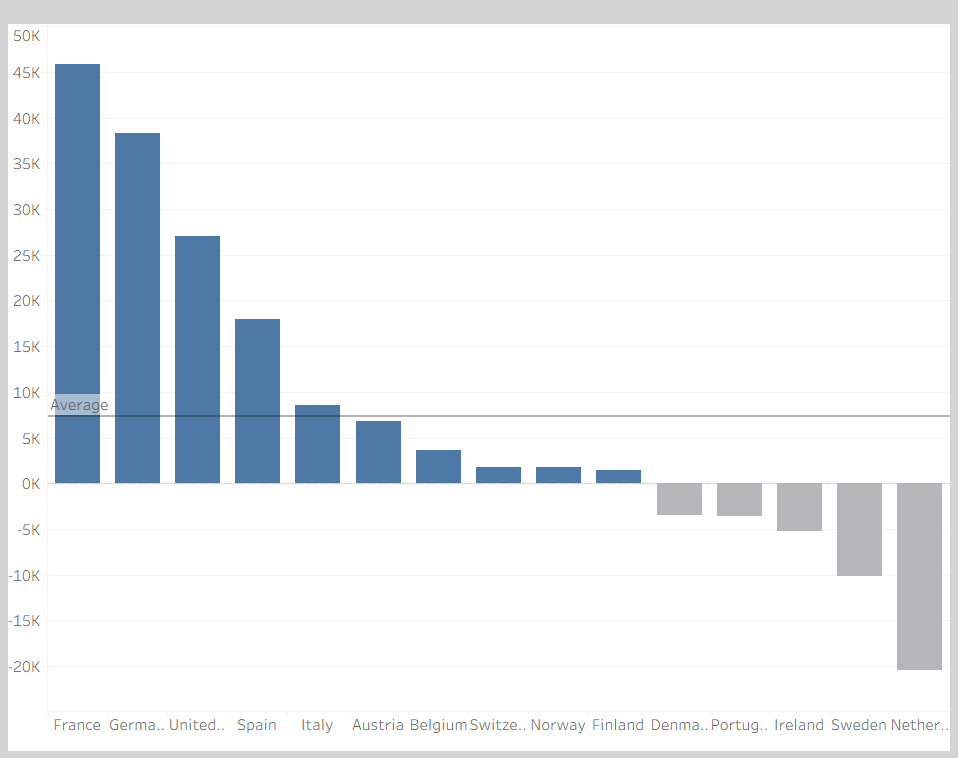

The page's visual inventory and layout, read from the dashboard file:
{"tool":"tableau","page":{"name":"Dashboard 2","canvas":[1000,800],"ordinal":1},"visuals":[{"type":"worksheet","title":"Sheet 5","mark":"Automatic","rows":["Sub-Category"],"cols":["Sales"],"box":[8,8,984,784]}]}

Visuals, with their boxes in screenshot pixels (x1, y1, x2, y2), scaled from the page's 1000x800 canvas onto the 958x758 screenshot:
"Sheet 5" worksheet: <bbox>8, 8, 950, 750</bbox>
